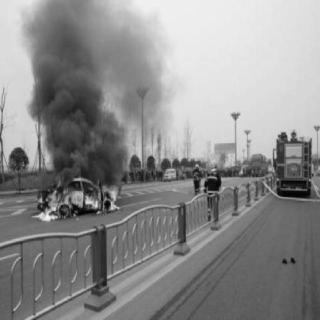Fire: (81, 181, 100, 211)
Smoke: (125, 22, 169, 128)
